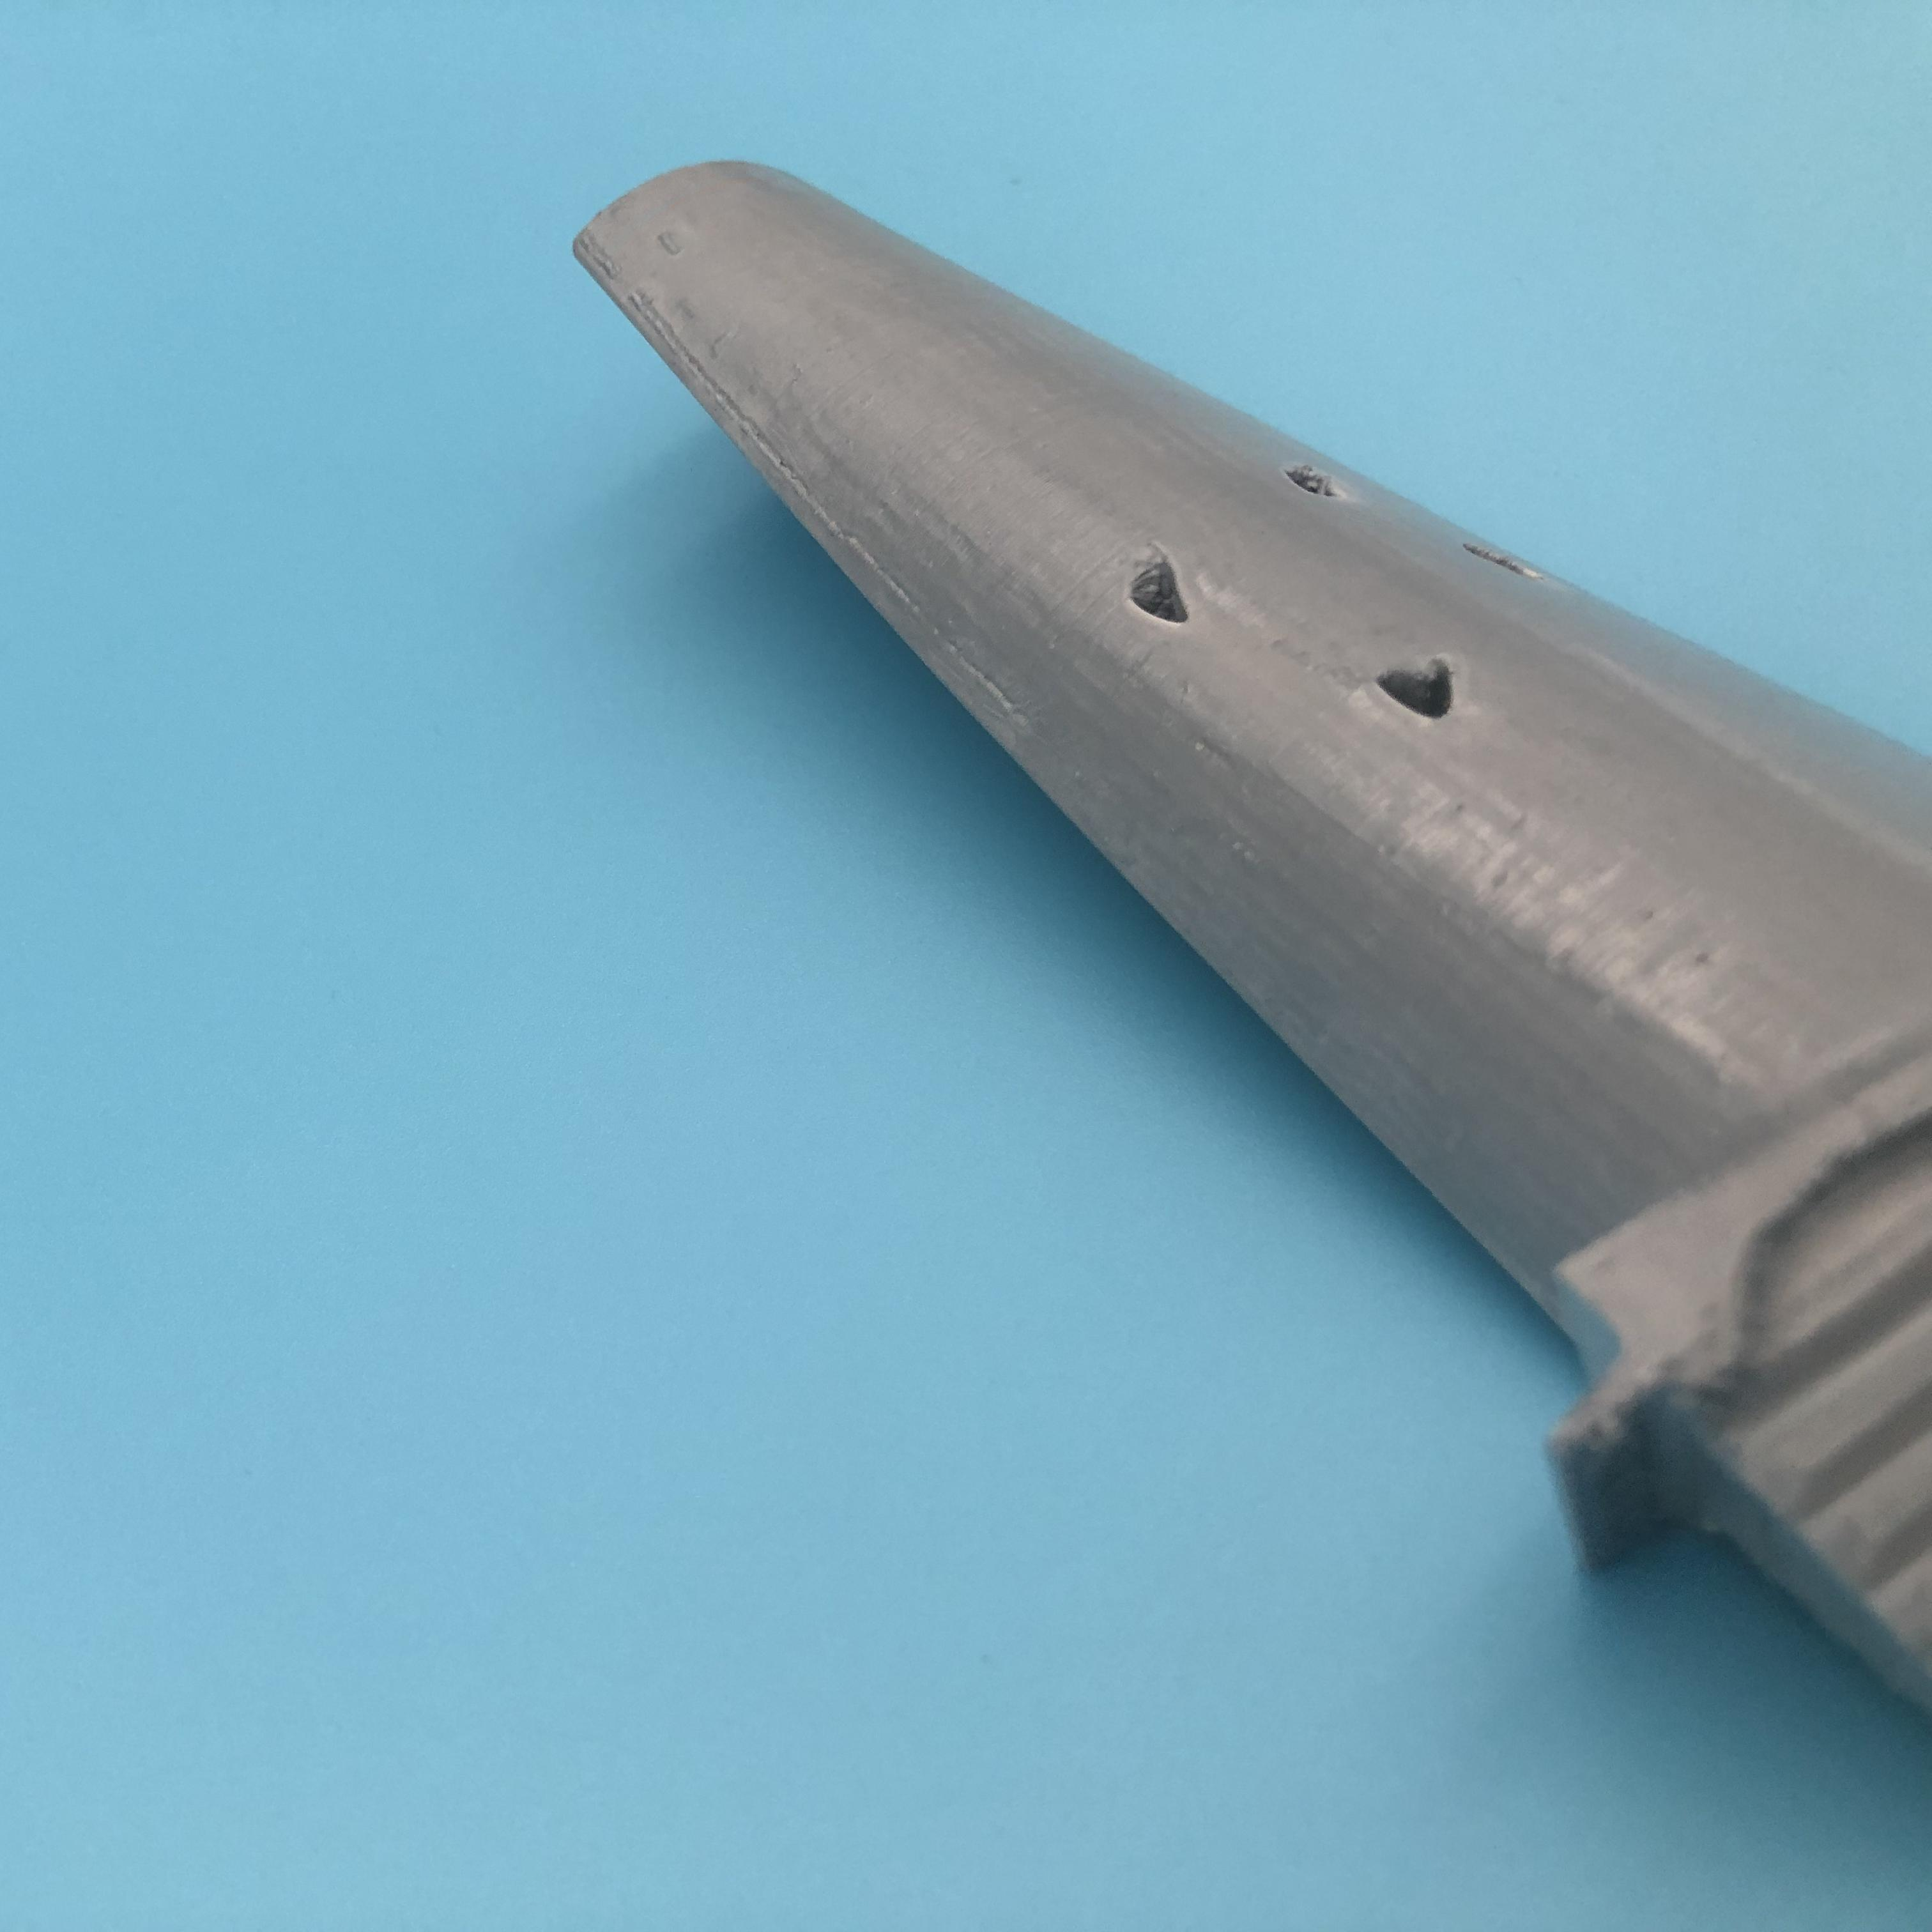breakdown: (1146, 462, 1497, 725)
